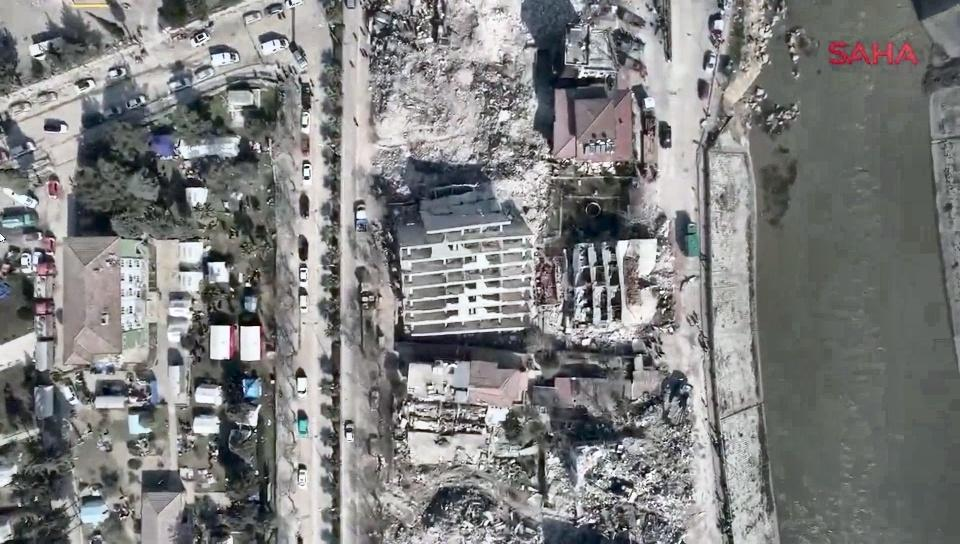kapali: (652, 354, 722, 543)
